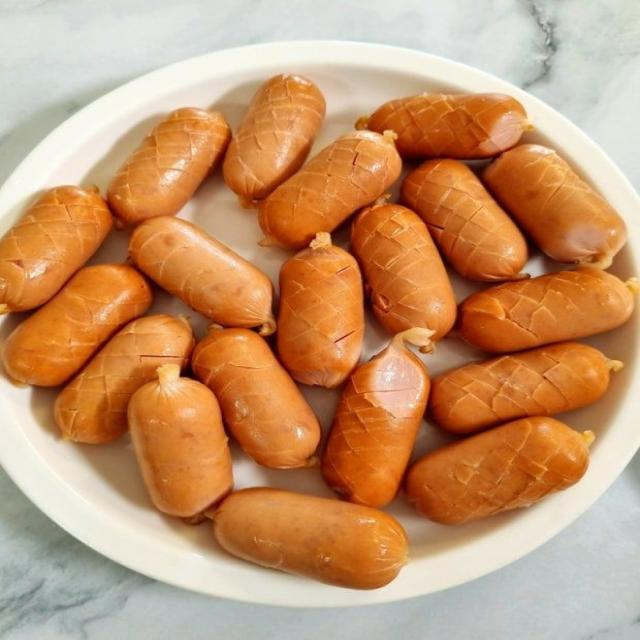sausage: (405, 417, 593, 524), (322, 328, 432, 507), (214, 488, 407, 589), (191, 329, 321, 468), (54, 315, 194, 444), (3, 265, 152, 386), (429, 343, 622, 434), (484, 145, 626, 268), (130, 217, 275, 335), (259, 131, 401, 249), (127, 364, 233, 518), (401, 160, 527, 281), (459, 268, 637, 353), (351, 204, 456, 341), (108, 108, 231, 224), (0, 186, 112, 312), (277, 233, 364, 388), (223, 74, 325, 203), (357, 94, 530, 159)
